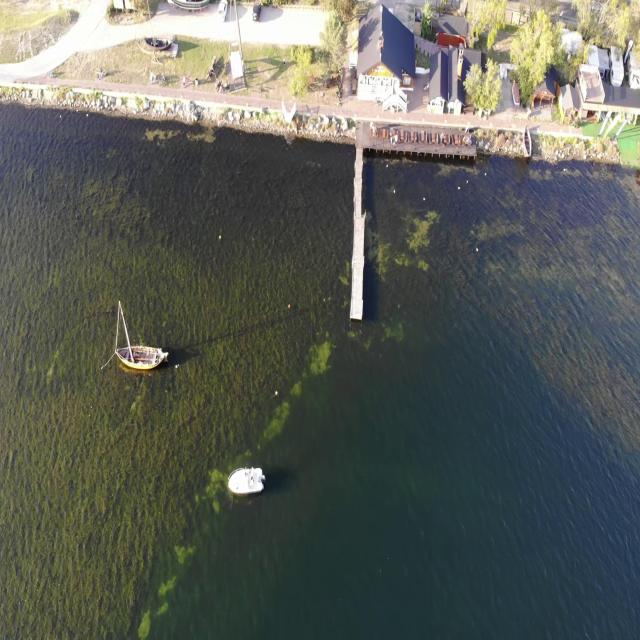boat: (225, 460, 268, 502)
bouy: (287, 304, 291, 312), (274, 389, 278, 397), (218, 234, 222, 241)
sailboat: (112, 296, 168, 372)
